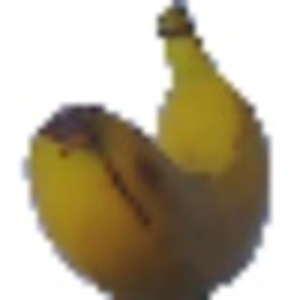banana: (26, 2, 274, 300)
